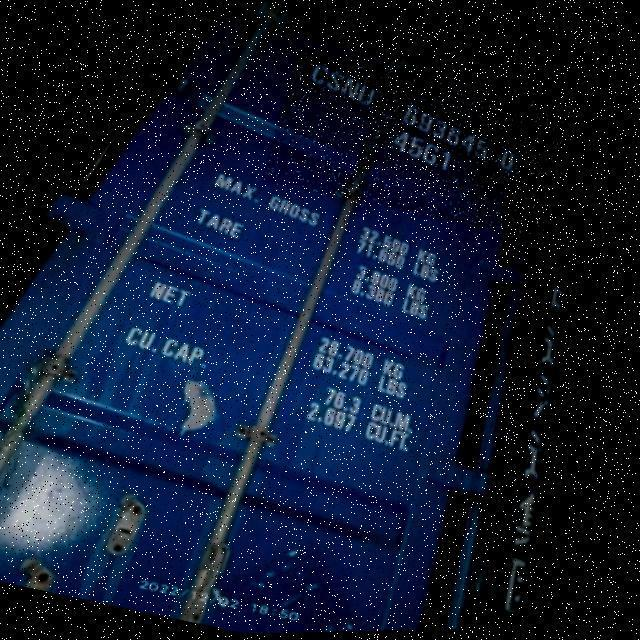container_number_h: (260, 46, 585, 248)
